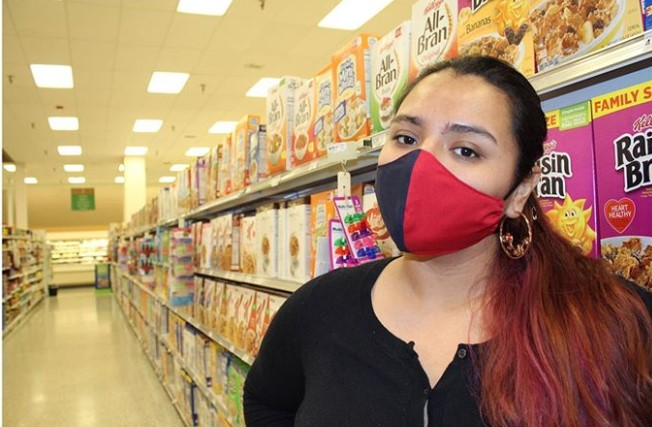face_with_mask: (374, 60, 544, 259)
